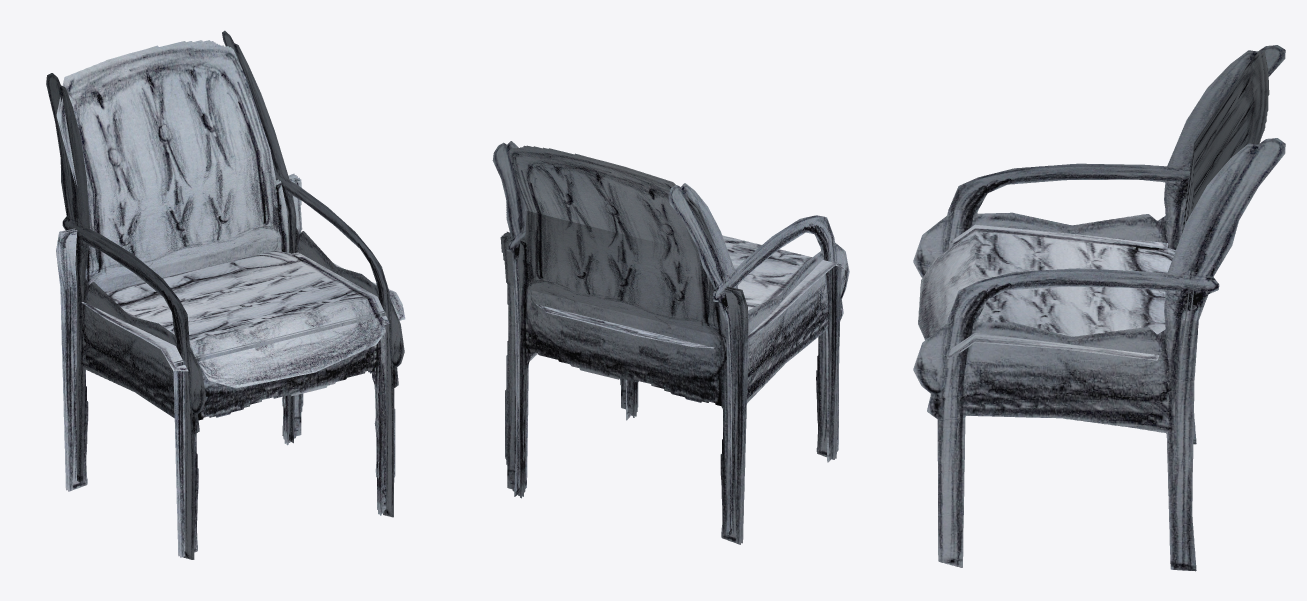
Rendered from Chair.fbx.
3 renders of one model, left to right at view 1: azimuth 30°, elevation 25°; view 2: azimuth 150°, elevation 25°; view 3: azimuth 270°, elevation 25°, orthographic. The views are drawn at different scales.
Parts seen in each view (by area): view 1: Plane; view 2: Plane; view 3: Plane.
Boxes of the visible parts, bbox=[...] form: Plane: bbox=[46, 30, 405, 559]; Plane: bbox=[492, 141, 849, 544]; Plane: bbox=[913, 45, 1285, 571].
Size of the model in its own units: 61.88 by 92.82 by 74.02.
